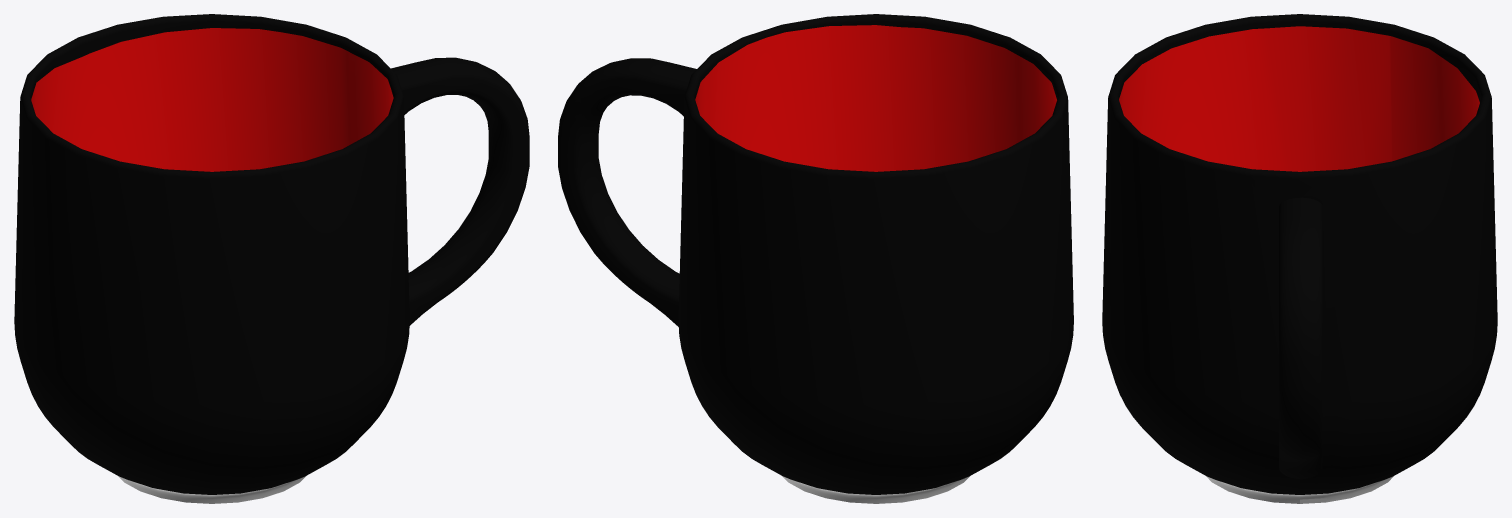
The model's file is mug_10_origin_gt_4.dae.
3 renders of one model, left to right at view 1: azimuth 30°, elevation 25°; view 2: azimuth 150°, elevation 25°; view 3: azimuth 270°, elevation 25°, orthographic.
Visible parts, largest first — view 1: SketchUp (×3), group_0; view 2: SketchUp (×3), group_0; view 3: SketchUp (×3), group_0.
Part boxes in pixels (<box>): SketchUp (×3): <box>14,14,409,503</box>; group_0: <box>391,57,529,325</box>; SketchUp (×3): <box>678,14,1073,503</box>; group_0: <box>558,58,696,326</box>; SketchUp (×3): <box>1102,14,1497,503</box>; group_0: <box>1279,197,1322,479</box>.
Size of the model in its own units: 5.96 by 4.21 by 4.32.
